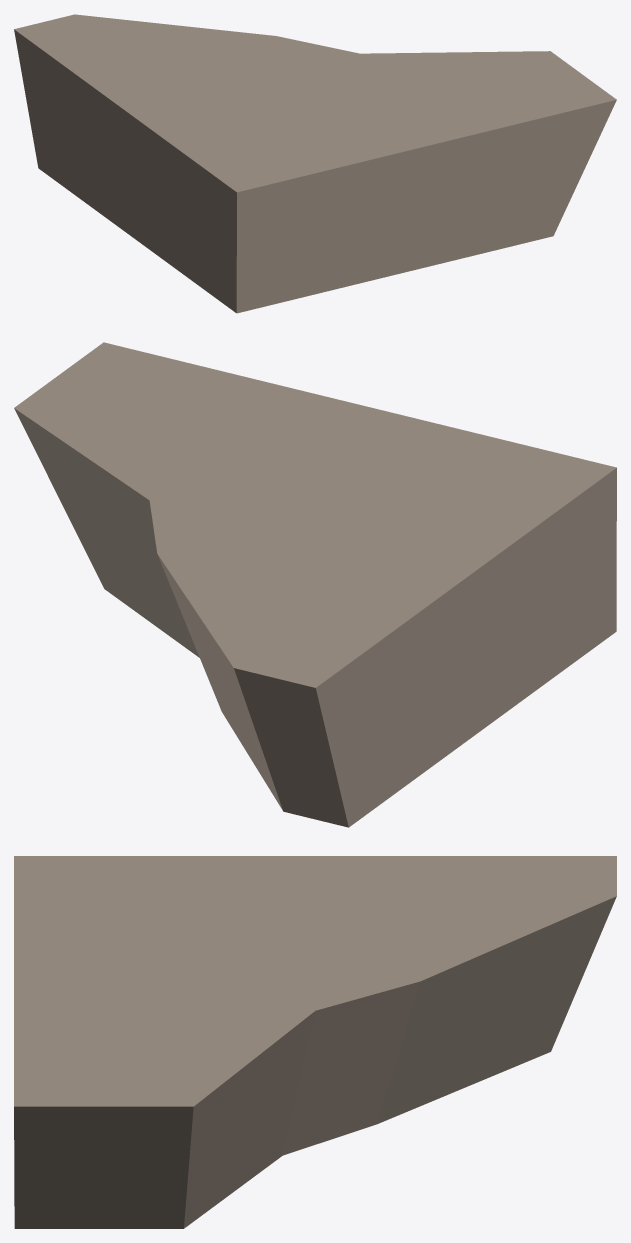
Rendered from Front_left_edge_broken_balcony_4.fbx.
The picture shows the model from 3 angles, top to bottom: view 1: azimuth 30°, elevation 25°; view 2: azimuth 150°, elevation 25°; view 3: azimuth 270°, elevation 25°; orthographic projection. The views are drawn at different scales.
Parts seen in each view (by area): view 1: polySurface603; view 2: polySurface603; view 3: polySurface603.
Part boxes in pixels (x1=…): polySurface603: x1=14, y1=14, x2=616, y2=313; polySurface603: x1=14, y1=342, x2=616, y2=827; polySurface603: x1=14, y1=856, x2=616, y2=1228.
Bounding box in the file's own units: 1.69 × 0.5154 × 1.72.
